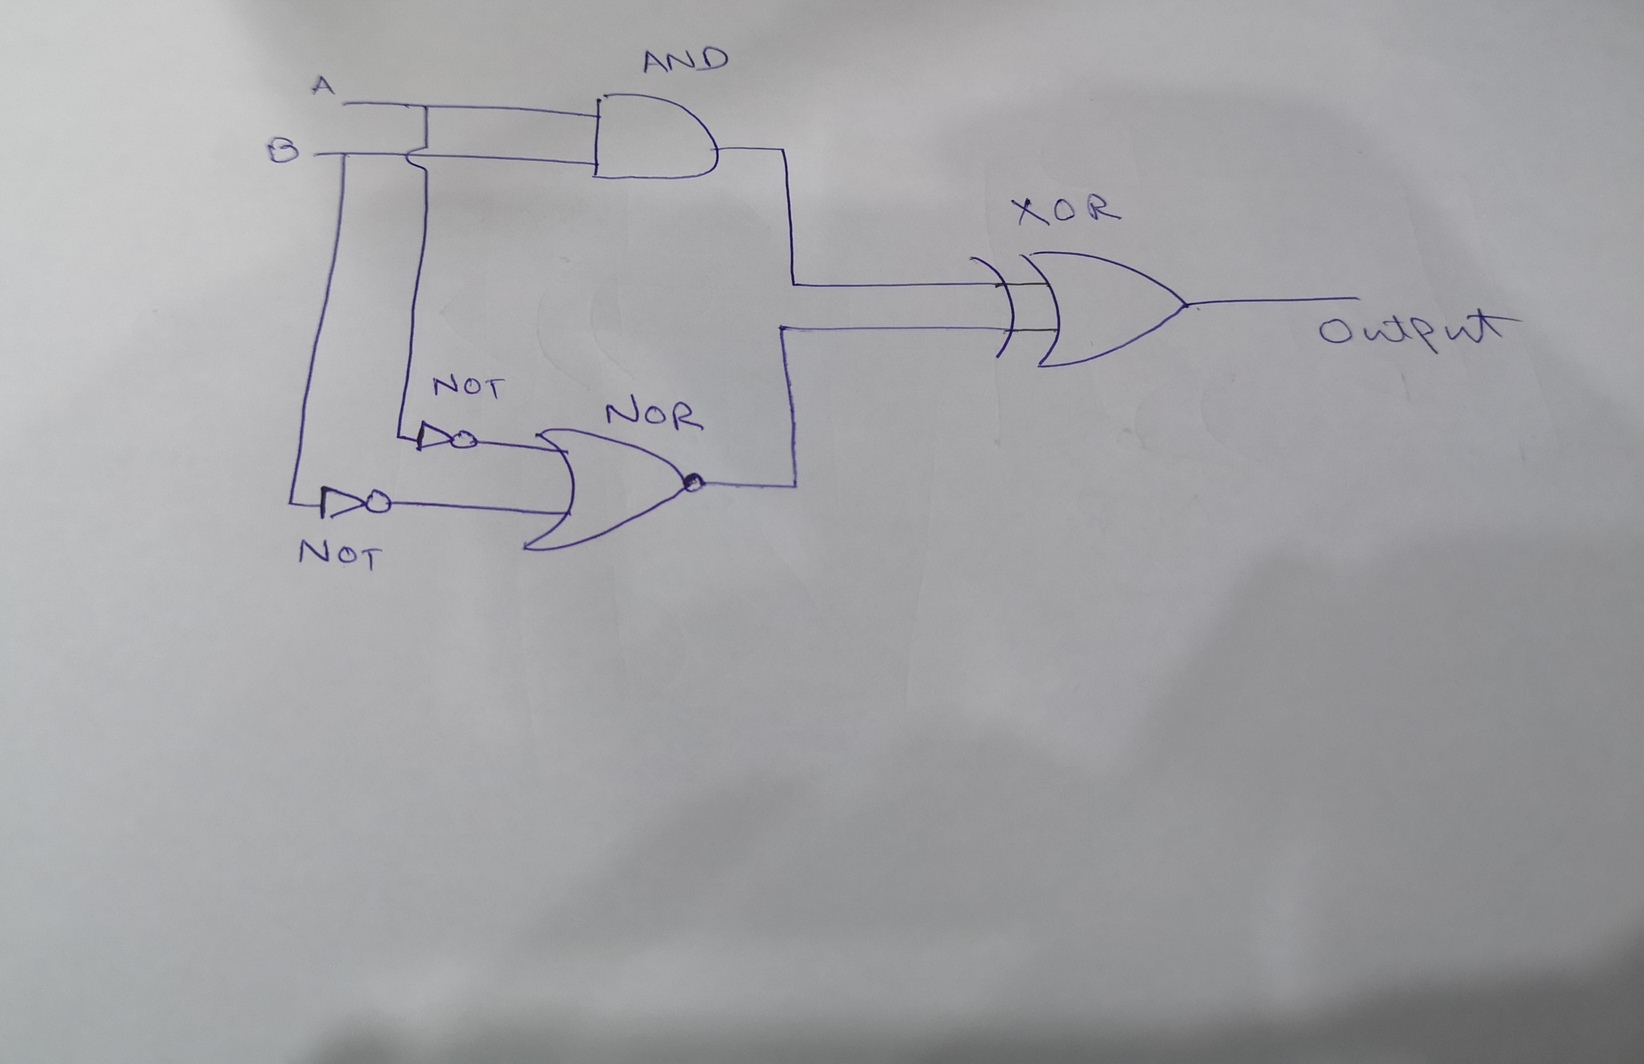and: (590, 87, 727, 188)
crossover: (404, 141, 435, 177)
junction: (781, 474, 806, 497), (770, 138, 793, 161), (781, 276, 803, 295), (416, 98, 436, 116), (772, 321, 792, 335), (333, 149, 352, 162), (389, 429, 405, 445), (283, 495, 298, 510)
nor: (516, 422, 713, 560)
not: (314, 480, 394, 527), (410, 415, 484, 457)
terminal: (1346, 286, 1368, 307), (308, 149, 328, 161), (336, 97, 352, 111)
text: (1313, 304, 1524, 359), (1007, 191, 1128, 228), (603, 395, 709, 437), (294, 533, 382, 575), (637, 43, 733, 75), (425, 371, 510, 407), (264, 134, 300, 162), (306, 71, 337, 98)
xor: (961, 244, 1199, 376)
